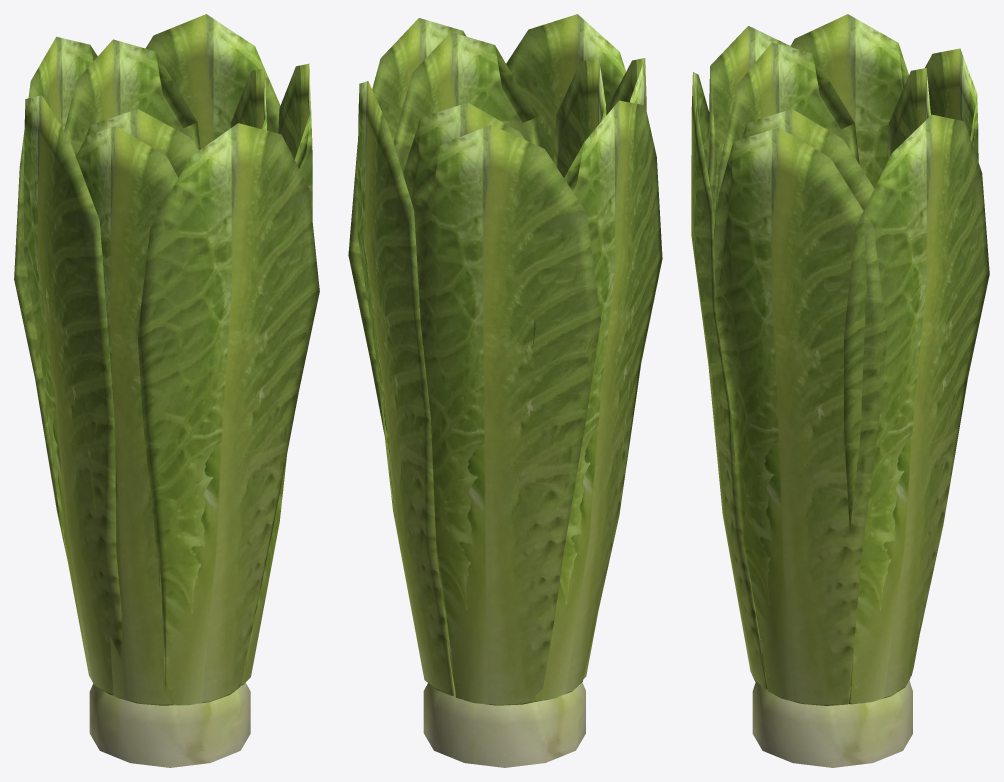
Rendered from romainelettuce.fbx.
3 renders of one model, left to right at view 1: azimuth 30°, elevation 25°; view 2: azimuth 150°, elevation 25°; view 3: azimuth 270°, elevation 25°, orthographic.
Parts seen in each view (by area): view 1: romaineleaf, romaineleaf4, romaineleaf5, bottomromaine, romaineleaf2, romaineleaf8, romaineleaf3, romaineleaf1, romaineleaf7, romaineleaf6; view 2: romaineleaf3, romaineleaf4, romaineleaf2, bottomromaine, romaineleaf6, romaineleaf, romaineleaf1, romaineleaf7, romaineleaf8, romaineleaf5; view 3: romaineleaf1, romaineleaf2, romaineleaf, bottomromaine, romaineleaf4, romaineleaf7, romaineleaf5, romaineleaf3, romaineleaf6, romaineleaf8.
Part boxes in pixels (x1=…): romaineleaf: x1=137, y1=123, x2=319, y2=705; romaineleaf4: x1=23, y1=95, x2=121, y2=695; romaineleaf5: x1=45, y1=126, x2=178, y2=705; bottomromaine: x1=89, y1=682, x2=250, y2=767; romaineleaf2: x1=145, y1=14, x2=280, y2=148; romaineleaf8: x1=64, y1=39, x2=200, y2=156; romaineleaf3: x1=14, y1=36, x2=97, y2=558; romaineleaf1: x1=240, y1=63, x2=312, y2=685; romaineleaf7: x1=85, y1=109, x2=198, y2=177; romaineleaf6: x1=230, y1=68, x2=266, y2=130; romaineleaf3: x1=411, y1=125, x2=600, y2=705; romaineleaf4: x1=533, y1=100, x2=662, y2=701; romaineleaf2: x1=357, y1=81, x2=454, y2=695; bottomromaine: x1=423, y1=671, x2=585, y2=767; romaineleaf6: x1=393, y1=32, x2=540, y2=175; romaineleaf: x1=506, y1=14, x2=625, y2=161; romaineleaf1: x1=348, y1=18, x2=466, y2=434; romaineleaf7: x1=553, y1=58, x2=606, y2=177; romaineleaf8: x1=403, y1=102, x2=524, y2=199; romaineleaf5: x1=583, y1=58, x2=646, y2=678; romaineleaf1: x1=714, y1=127, x2=887, y2=705; romaineleaf2: x1=844, y1=114, x2=989, y2=704; romaineleaf: x1=691, y1=72, x2=767, y2=689; bottomromaine: x1=752, y1=680, x2=912, y2=767; romaineleaf4: x1=790, y1=14, x2=908, y2=188; romaineleaf7: x1=714, y1=42, x2=859, y2=238; romaineleaf5: x1=708, y1=26, x2=792, y2=232; romaineleaf3: x1=911, y1=48, x2=978, y2=675; romaineleaf6: x1=742, y1=109, x2=874, y2=210; romaineleaf8: x1=886, y1=68, x2=930, y2=163.
Size of the model in its own units: 0.5273 by 1.28 by 0.5223.
